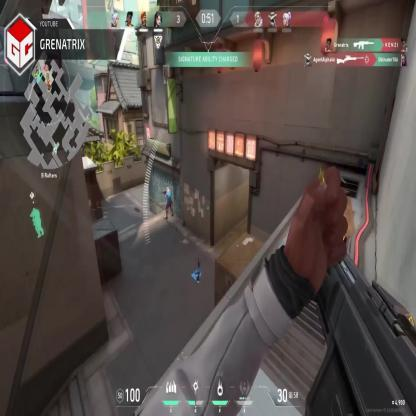enemy: (164, 186, 173, 221)
enemy_head: (166, 186, 169, 192)
